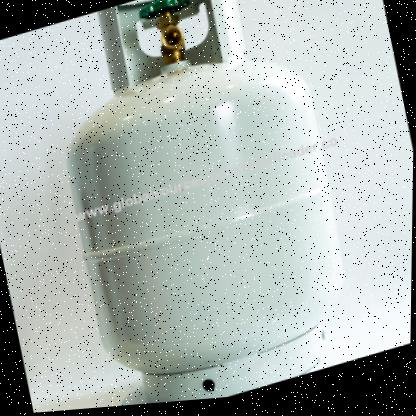gas-tank: (26, 0, 382, 413)
